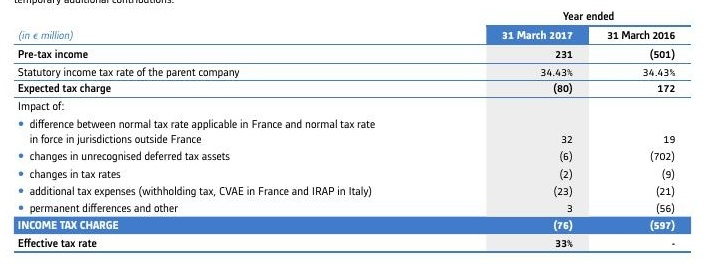table: (0, 0, 704, 265)
